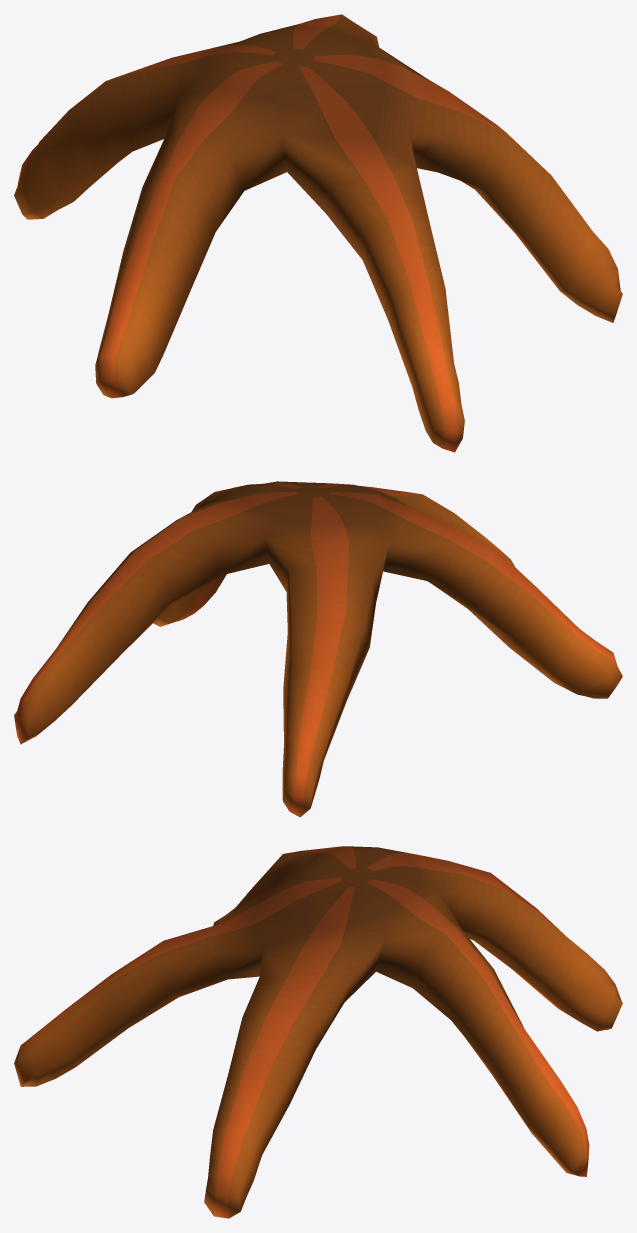
File: starfish-curved-01.fbx
3 renders of one model, top to bottom at view 1: azimuth 30°, elevation 25°; view 2: azimuth 150°, elevation 25°; view 3: azimuth 270°, elevation 25°, orthographic. The views are drawn at different scales.
Visible parts, largest first — view 1: Starfish; view 2: Starfish; view 3: Starfish.
Part boxes in pixels (bbox=[...]): Starfish: bbox=[14, 14, 622, 452]; Starfish: bbox=[14, 481, 622, 817]; Starfish: bbox=[14, 846, 622, 1218].
Size of the model in its own units: 276 by 136 by 313.
